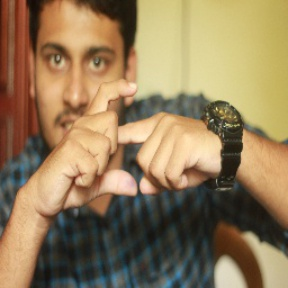E: (75, 73, 173, 206)
